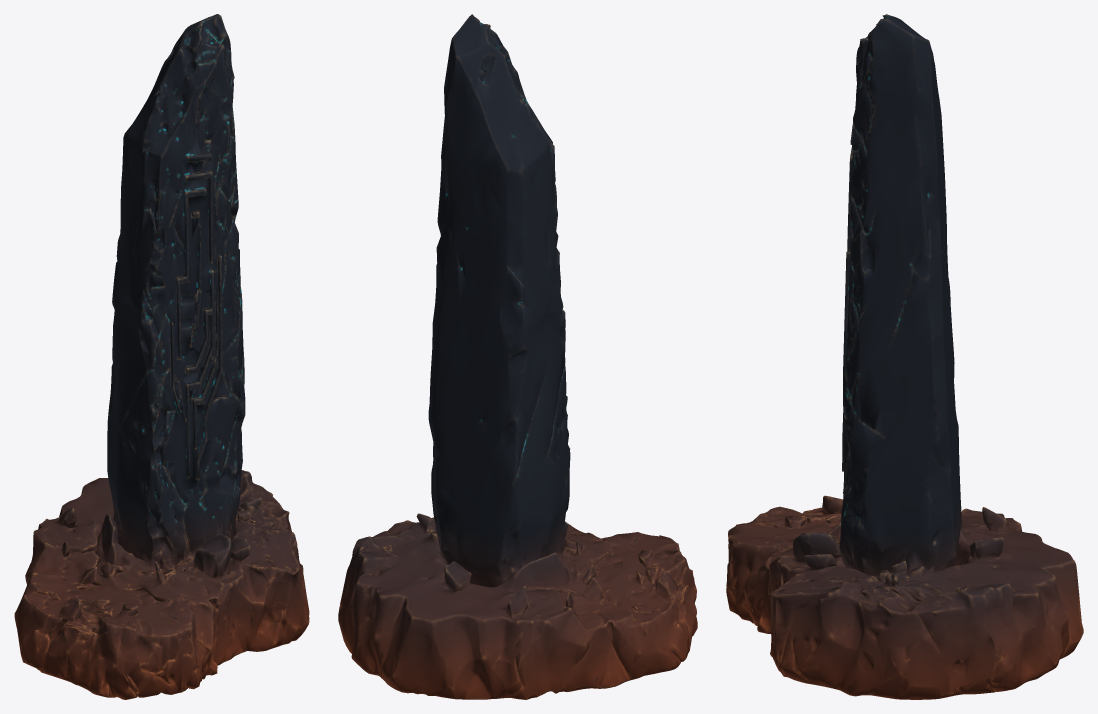
The model's file is SM_Tripo_AlienBeacon.fbx.
3 renders of one model, left to right at view 1: azimuth 30°, elevation 25°; view 2: azimuth 150°, elevation 25°; view 3: azimuth 270°, elevation 25°, orthographic. The views are drawn at different scales.
Parts seen in each view (by area): view 1: SM_Tripo_AlienBeacon; view 2: SM_Tripo_AlienBeacon; view 3: SM_Tripo_AlienBeacon.
Boxes of the visible parts, <box> form: SM_Tripo_AlienBeacon: <box>14,14,309,699</box>; SM_Tripo_AlienBeacon: <box>338,14,697,699</box>; SM_Tripo_AlienBeacon: <box>726,14,1083,699</box>.
Bounding box in the file's own units: 130 × 260 × 130.
Materials: 1 (1 with a texture image).
